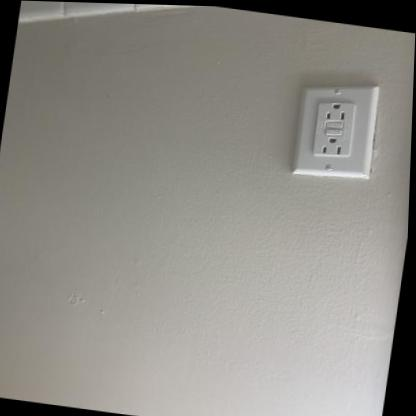OUTLET: (291, 80, 381, 183)
